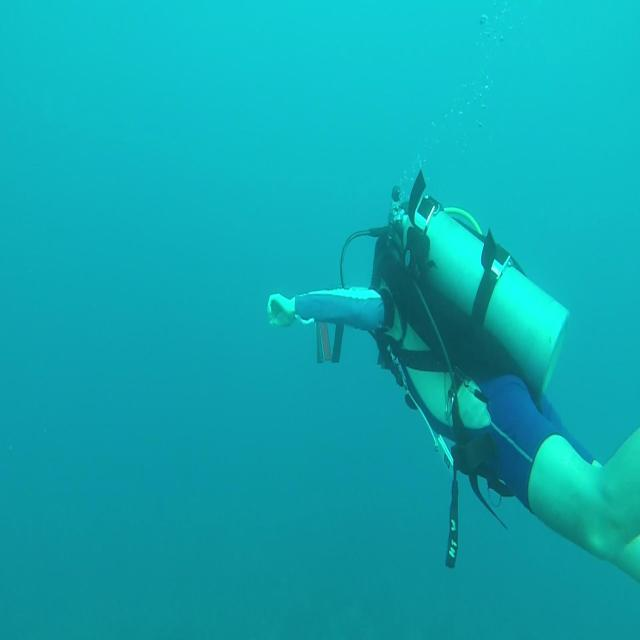human: (267, 174, 639, 584)
